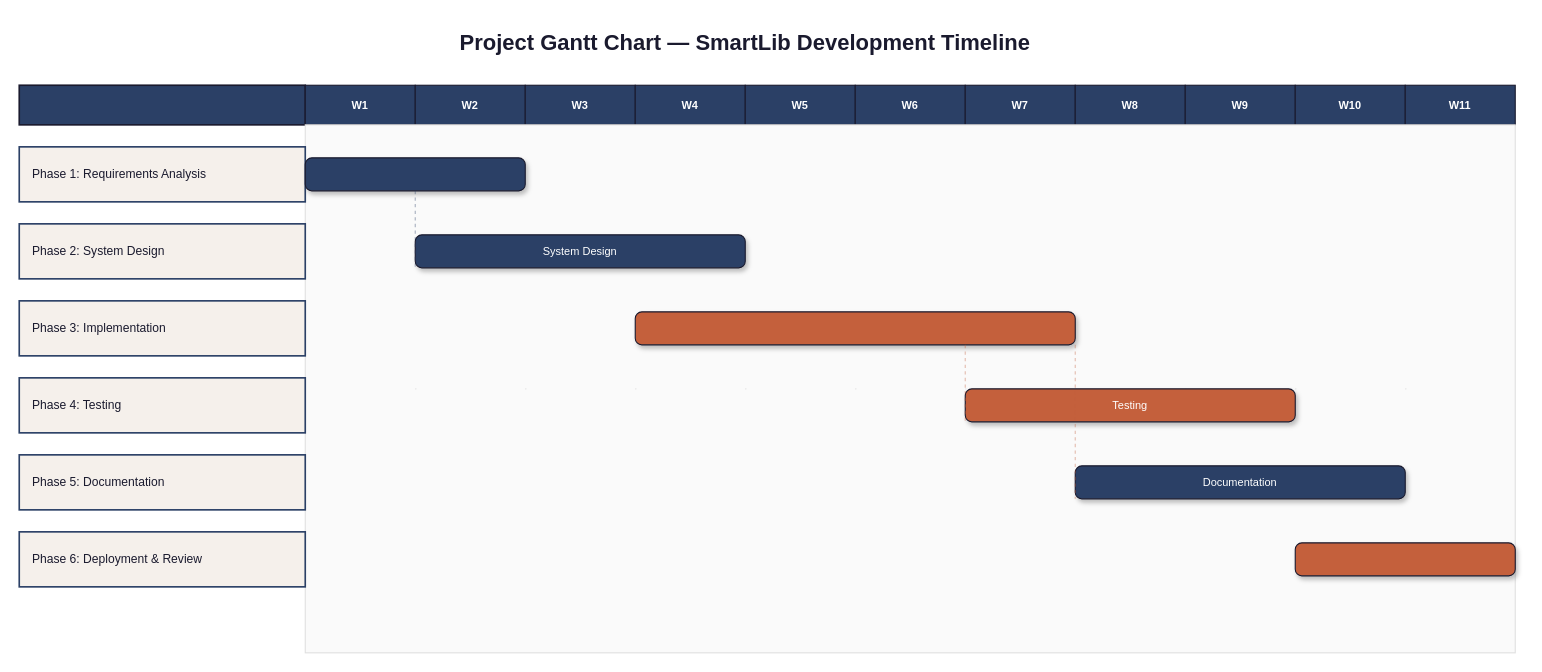
The diagram is 1542 pixels wide and 672 high, and some of its shapes have lost their labels. Here are the shapes that lost their labels. From the top down, the centre of each, then its label:
the point at 162,104: Phase
the point at 416,175: Requirements Analysis
the point at 856,329: Implementation
the point at 1406,560: Deployment & Review
